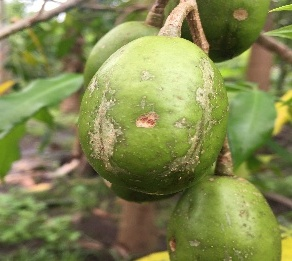Coc: (61, 34, 234, 203)
